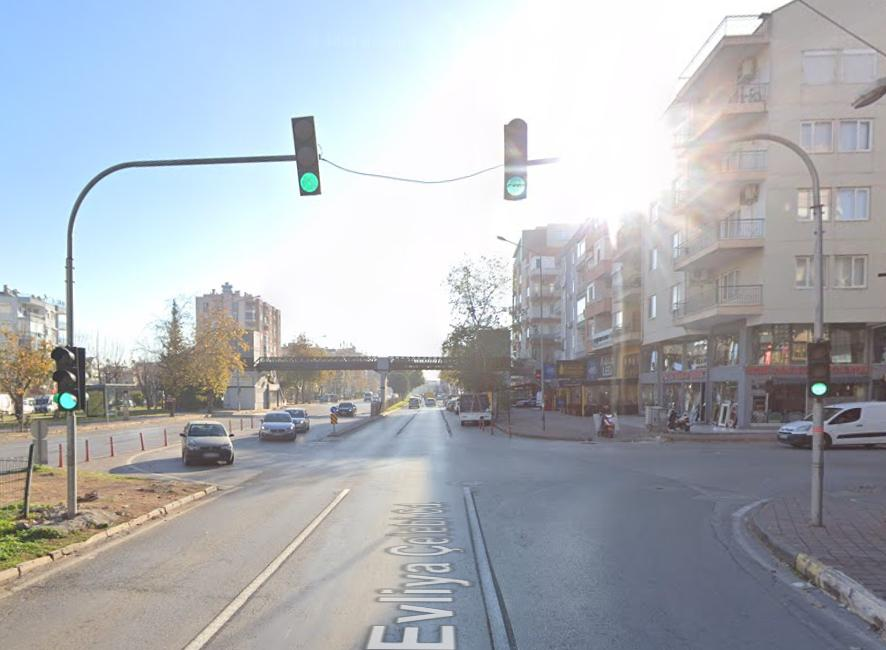greenlight: (293, 116, 322, 195), (503, 120, 531, 200), (51, 344, 84, 411), (807, 340, 830, 398)
